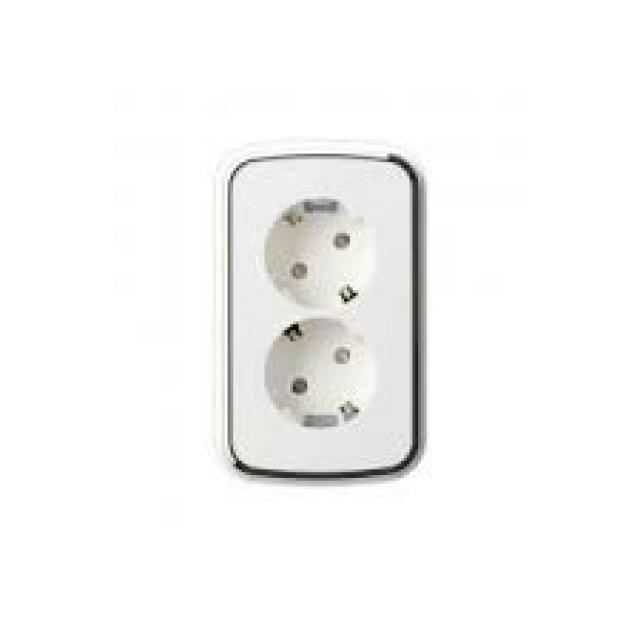typeb: (147, 111, 496, 547)
